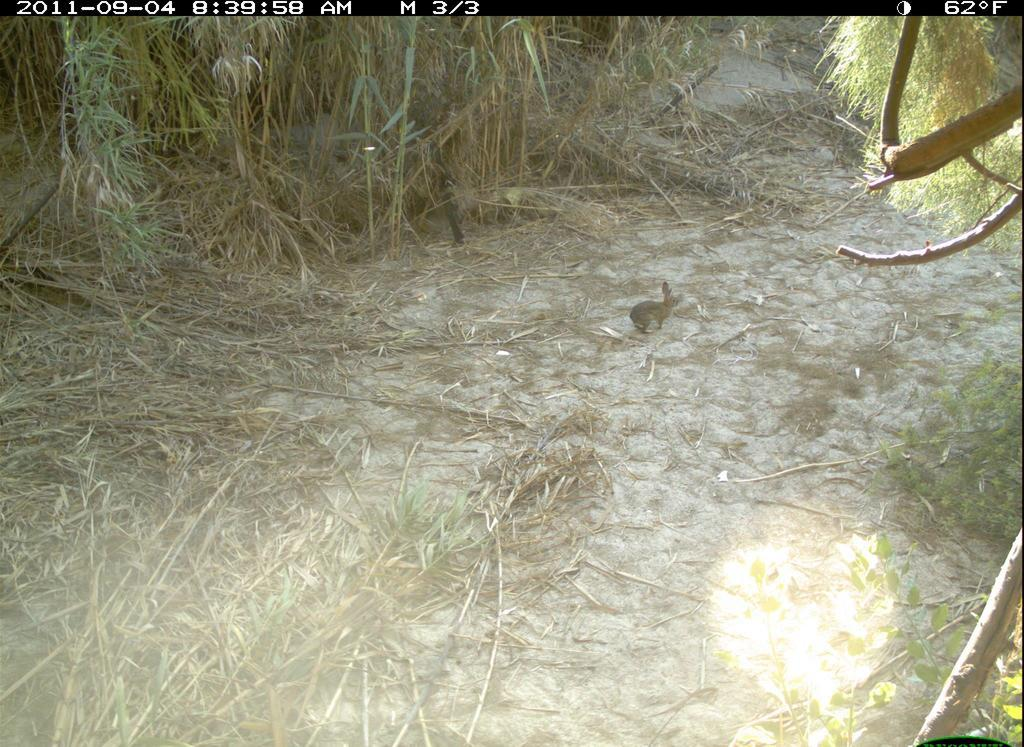rabbit: (623, 273, 692, 350)
